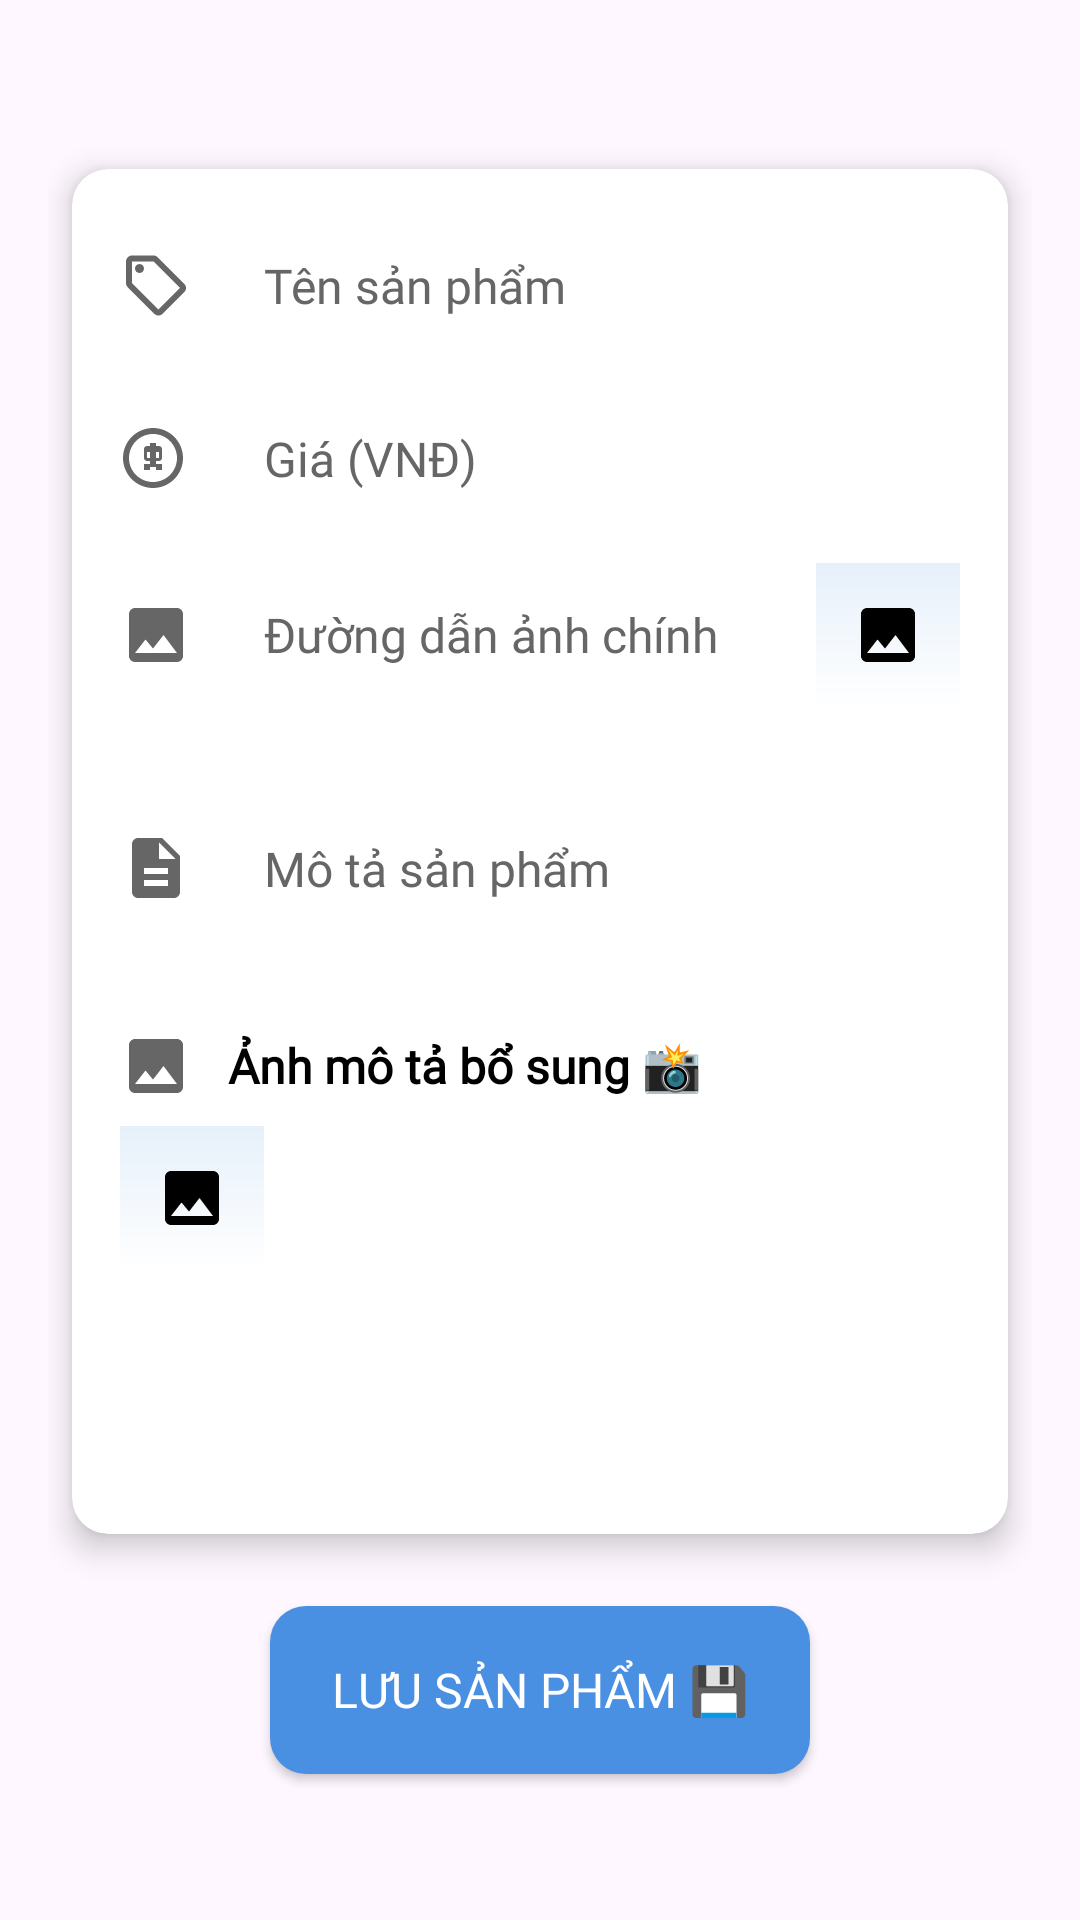

Screen size 1080 x 1920. Icon name, then its box in pixels as region(x1, y1, x2, y2):
Chọn ảnh bổ sung: region(165, 1171, 219, 1225)
Chọn ảnh chính: region(861, 608, 915, 662)
description: region(132, 838, 180, 898)
images: region(129, 1039, 183, 1093)
price: region(123, 428, 183, 488)
product name: region(126, 255, 186, 316)
